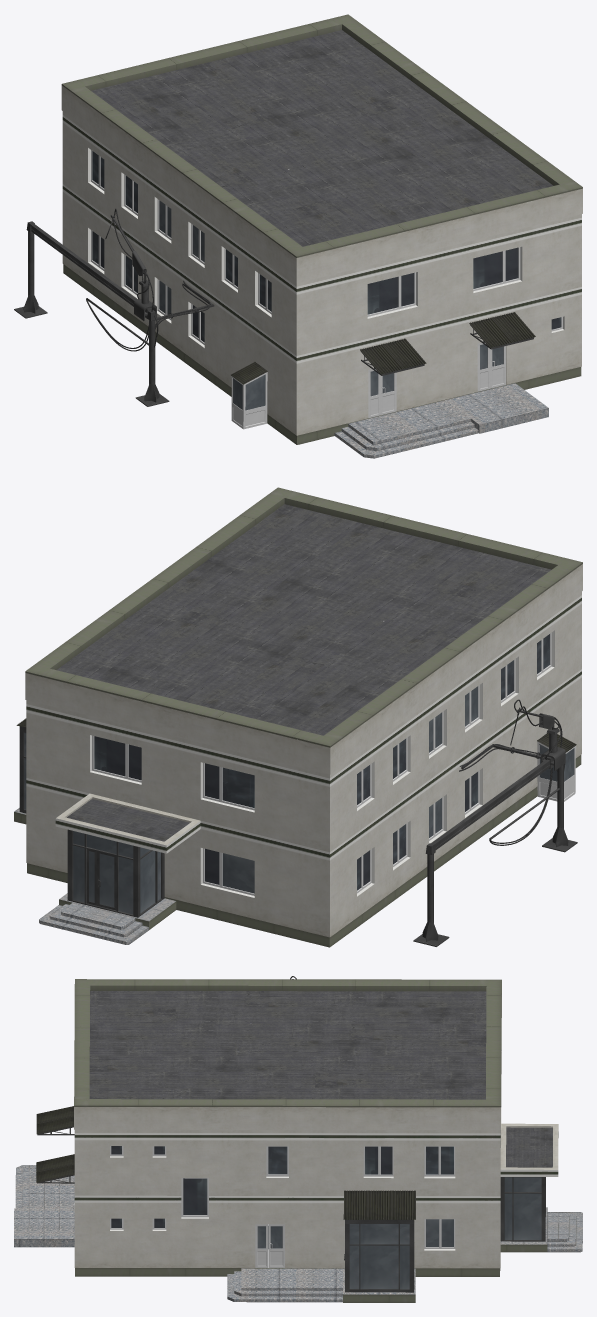
The model's file is plant-building45.glb.
3 views of the same model, one above another, from view 1: azimuth 30°, elevation 25°; view 2: azimuth 150°, elevation 25°; view 3: azimuth 270°, elevation 25° (orthographic). The views are drawn at different scales.
Parts seen in each view (by area): view 1: Object8935539; view 2: Object8935539; view 3: Object8935539.
Part boxes in pixels (x1,y1,x2,y2): Object8935539: (14, 14, 582, 458); Object8935539: (14, 487, 582, 947); Object8935539: (14, 976, 582, 1302).
Bounding box in the file's own units: 19.03 × 8.25 × 24.8.
1 material, 1 textured.
